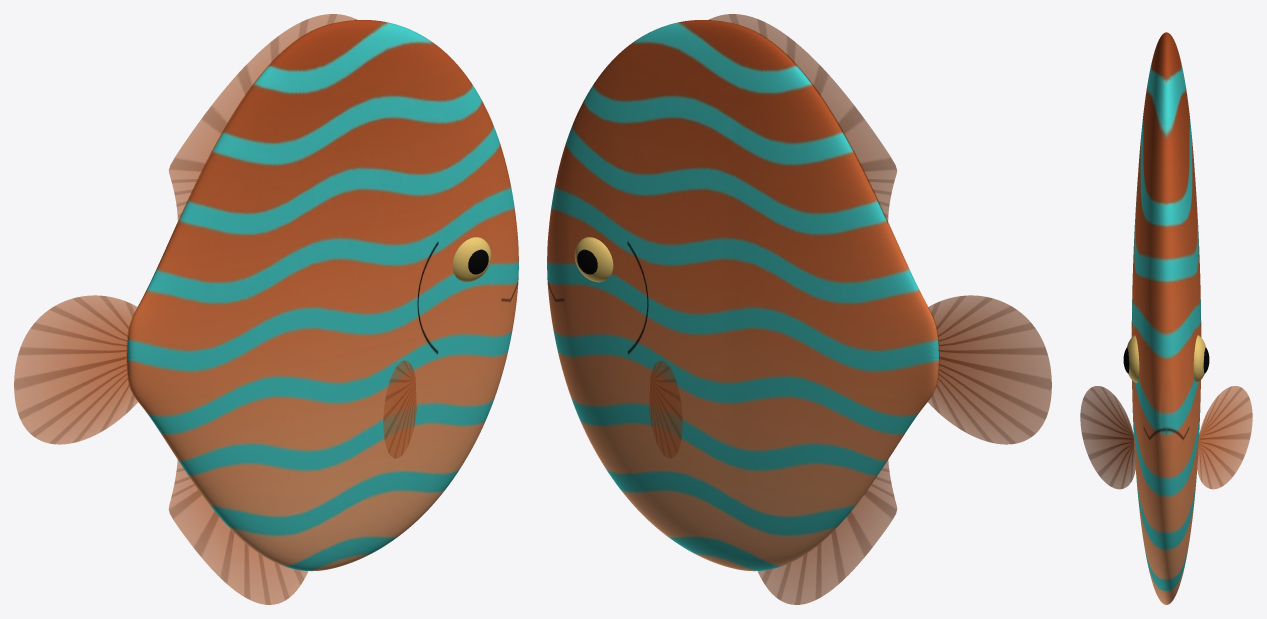
File: discus.glb
3 renders of one model, left to right at view 1: azimuth 30°, elevation 25°; view 2: azimuth 150°, elevation 25°; view 3: azimuth 270°, elevation 25°, orthographic.
Visible parts, largest first — view 1: body, tail, anal, dorsal, pec-1, Sphere; view 2: body, tail, anal, dorsal, pec1, Sphere.002; view 3: body, pec-1, pec1, Sphere, Sphere.002.
Boxes of the visible parts, <box> form: body: <box>127,20,518,571</box>; tail: <box>14,295,137,444</box>; anal: <box>168,460,308,604</box>; dorsal: <box>168,14,357,222</box>; pec-1: <box>383,360,416,458</box>; Sphere: <box>452,237,491,282</box>; body: <box>547,20,938,571</box>; tail: <box>928,295,1051,444</box>; anal: <box>757,460,897,604</box>; dorsal: <box>708,14,897,222</box>; pec1: <box>649,360,682,458</box>; Sphere.002: <box>574,237,613,282</box>; body: <box>1131,32,1201,604</box>; pec-1: <box>1080,386,1135,489</box>; pec1: <box>1197,386,1252,489</box>; Sphere: <box>1127,335,1139,382</box>; Sphere.002: <box>1193,335,1205,382</box>.
Size of the model in its own units: 1.29 by 1.42 by 0.3813.
Materials: 5 (3 with a texture image).
